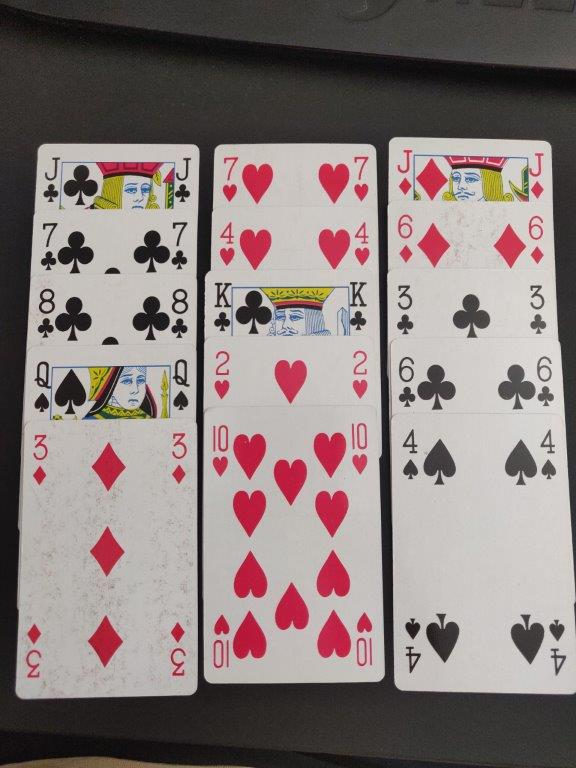10H: (207, 422, 235, 482), (346, 420, 372, 476)
2H: (208, 349, 235, 404), (349, 345, 372, 401)
3C: (393, 279, 420, 340), (524, 276, 550, 334)
3D: (165, 429, 191, 490), (26, 430, 53, 487)
4H: (351, 217, 374, 268), (217, 218, 237, 269)
4S: (395, 424, 422, 486), (536, 426, 559, 481)
6C: (393, 352, 420, 414), (534, 353, 558, 410)
6D: (522, 208, 549, 268), (395, 211, 418, 265)
7C: (37, 215, 61, 276), (168, 215, 191, 273)
7H: (215, 153, 243, 206), (349, 152, 372, 204)
8C: (34, 284, 61, 344), (167, 280, 190, 345)
JC: (37, 152, 64, 207), (170, 155, 195, 208)
JD: (394, 145, 416, 201), (525, 149, 547, 201)
KC: (209, 279, 237, 334), (347, 275, 372, 335)
QS: (30, 358, 56, 419), (170, 355, 191, 416)
